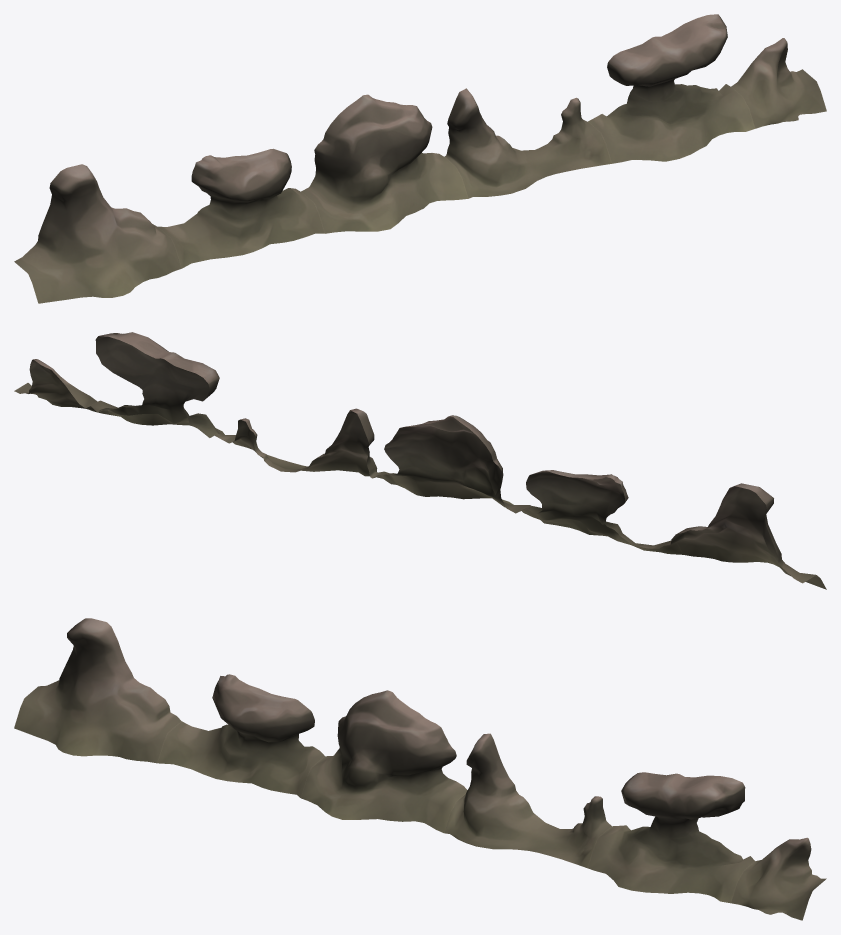
The model's file is Border_Rock_Full.FBX.
3 renders of one model, top to bottom at view 1: azimuth 30°, elevation 25°; view 2: azimuth 150°, elevation 25°; view 3: azimuth 330°, elevation 25°, orthographic.
Visible parts, largest first — view 1: Border_Rock_Full; view 2: Border_Rock_Full; view 3: Border_Rock_Full.
Boxes of the visible parts, box(x1,y1,x2,y2) form: Border_Rock_Full: box(14, 14, 826, 303); Border_Rock_Full: box(14, 332, 826, 589); Border_Rock_Full: box(14, 618, 826, 920).
Bounding box in the file's own units: 4400 × 563 × 362.
